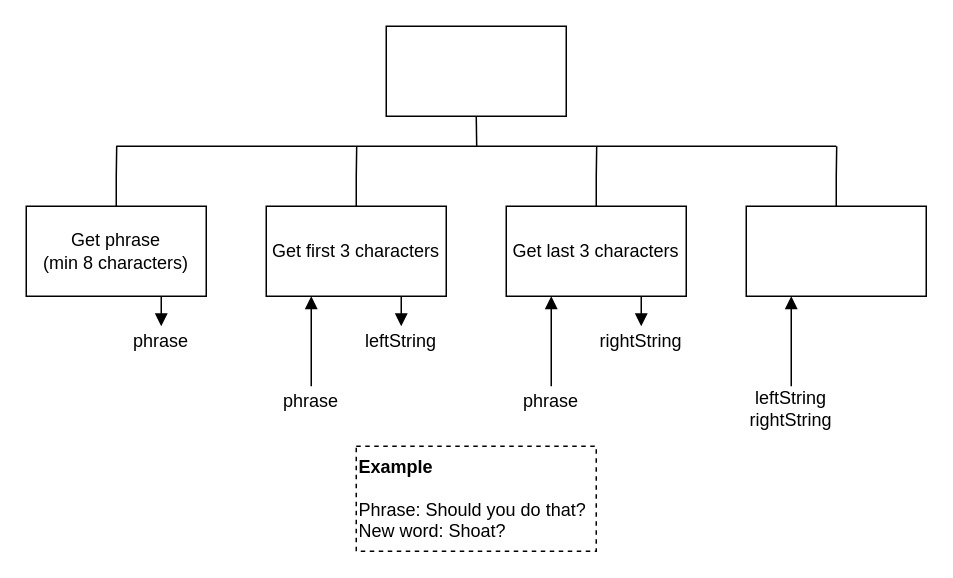
Some shapes in this 953 by 578 pixel diagram are drawn without their labels. The shapes that lost their labels are listed below. From the top down, each one's box as (x1, y1, x2, y2) in pixels, then its label:
(385, 25, 566, 116): Test ball bearing batch size
(745, 205, 926, 296): Display new word
